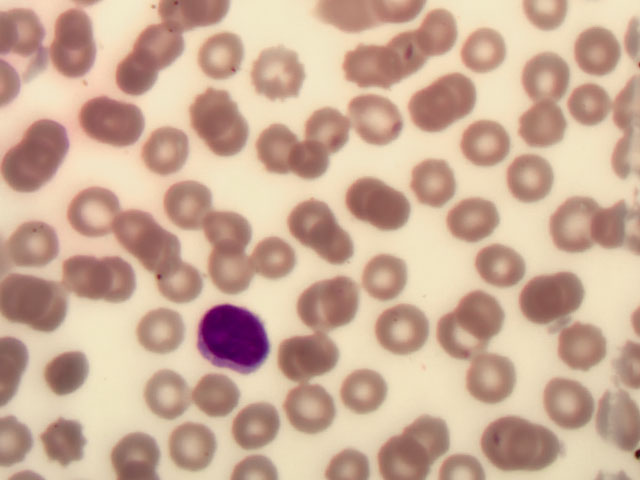RBC: (49, 33, 100, 82), (30, 113, 81, 162), (2, 143, 53, 192), (73, 90, 124, 139), (104, 104, 155, 153), (111, 53, 162, 102), (134, 20, 185, 69), (196, 31, 247, 80), (183, 81, 234, 130), (209, 103, 260, 152), (140, 126, 191, 175), (158, 175, 209, 224), (101, 198, 152, 247), (59, 183, 110, 232), (16, 219, 67, 268), (26, 288, 77, 337), (1, 274, 52, 323), (60, 255, 111, 304), (92, 254, 143, 303), (130, 228, 181, 277), (154, 256, 205, 305), (211, 246, 262, 295), (199, 208, 250, 257), (253, 233, 304, 282), (289, 195, 340, 244), (303, 220, 354, 269), (286, 141, 337, 190), (255, 125, 306, 174), (295, 104, 346, 153), (260, 53, 311, 102), (339, 44, 390, 93), (376, 29, 427, 78), (417, 10, 468, 59), (462, 24, 513, 73), (438, 69, 489, 118), (404, 84, 455, 133), (345, 96, 396, 145), (368, 189, 419, 238), (341, 174, 392, 223), (411, 159, 462, 208), (456, 118, 507, 167), (515, 102, 566, 151), (526, 51, 577, 100), (563, 85, 614, 134), (574, 30, 625, 79), (553, 202, 604, 251), (510, 152, 561, 201), (452, 193, 503, 242), (476, 239, 527, 288), (505, 279, 556, 328), (544, 275, 595, 324), (555, 321, 606, 370), (550, 378, 601, 427), (467, 353, 518, 402), (436, 313, 487, 362), (456, 286, 507, 335), (377, 307, 428, 356), (366, 255, 417, 304), (321, 273, 372, 322), (297, 278, 348, 327), (303, 331, 354, 380), (278, 339, 329, 388), (286, 381, 337, 430), (339, 370, 390, 419), (378, 431, 429, 480), (475, 418, 526, 467), (233, 398, 284, 447), (189, 373, 240, 422), (142, 371, 193, 420), (134, 309, 185, 358), (39, 346, 90, 395), (36, 421, 87, 470), (114, 431, 165, 480), (166, 421, 217, 470), (1, 4, 52, 53), (47, 1, 98, 48)
WBC: (197, 305, 273, 373)
